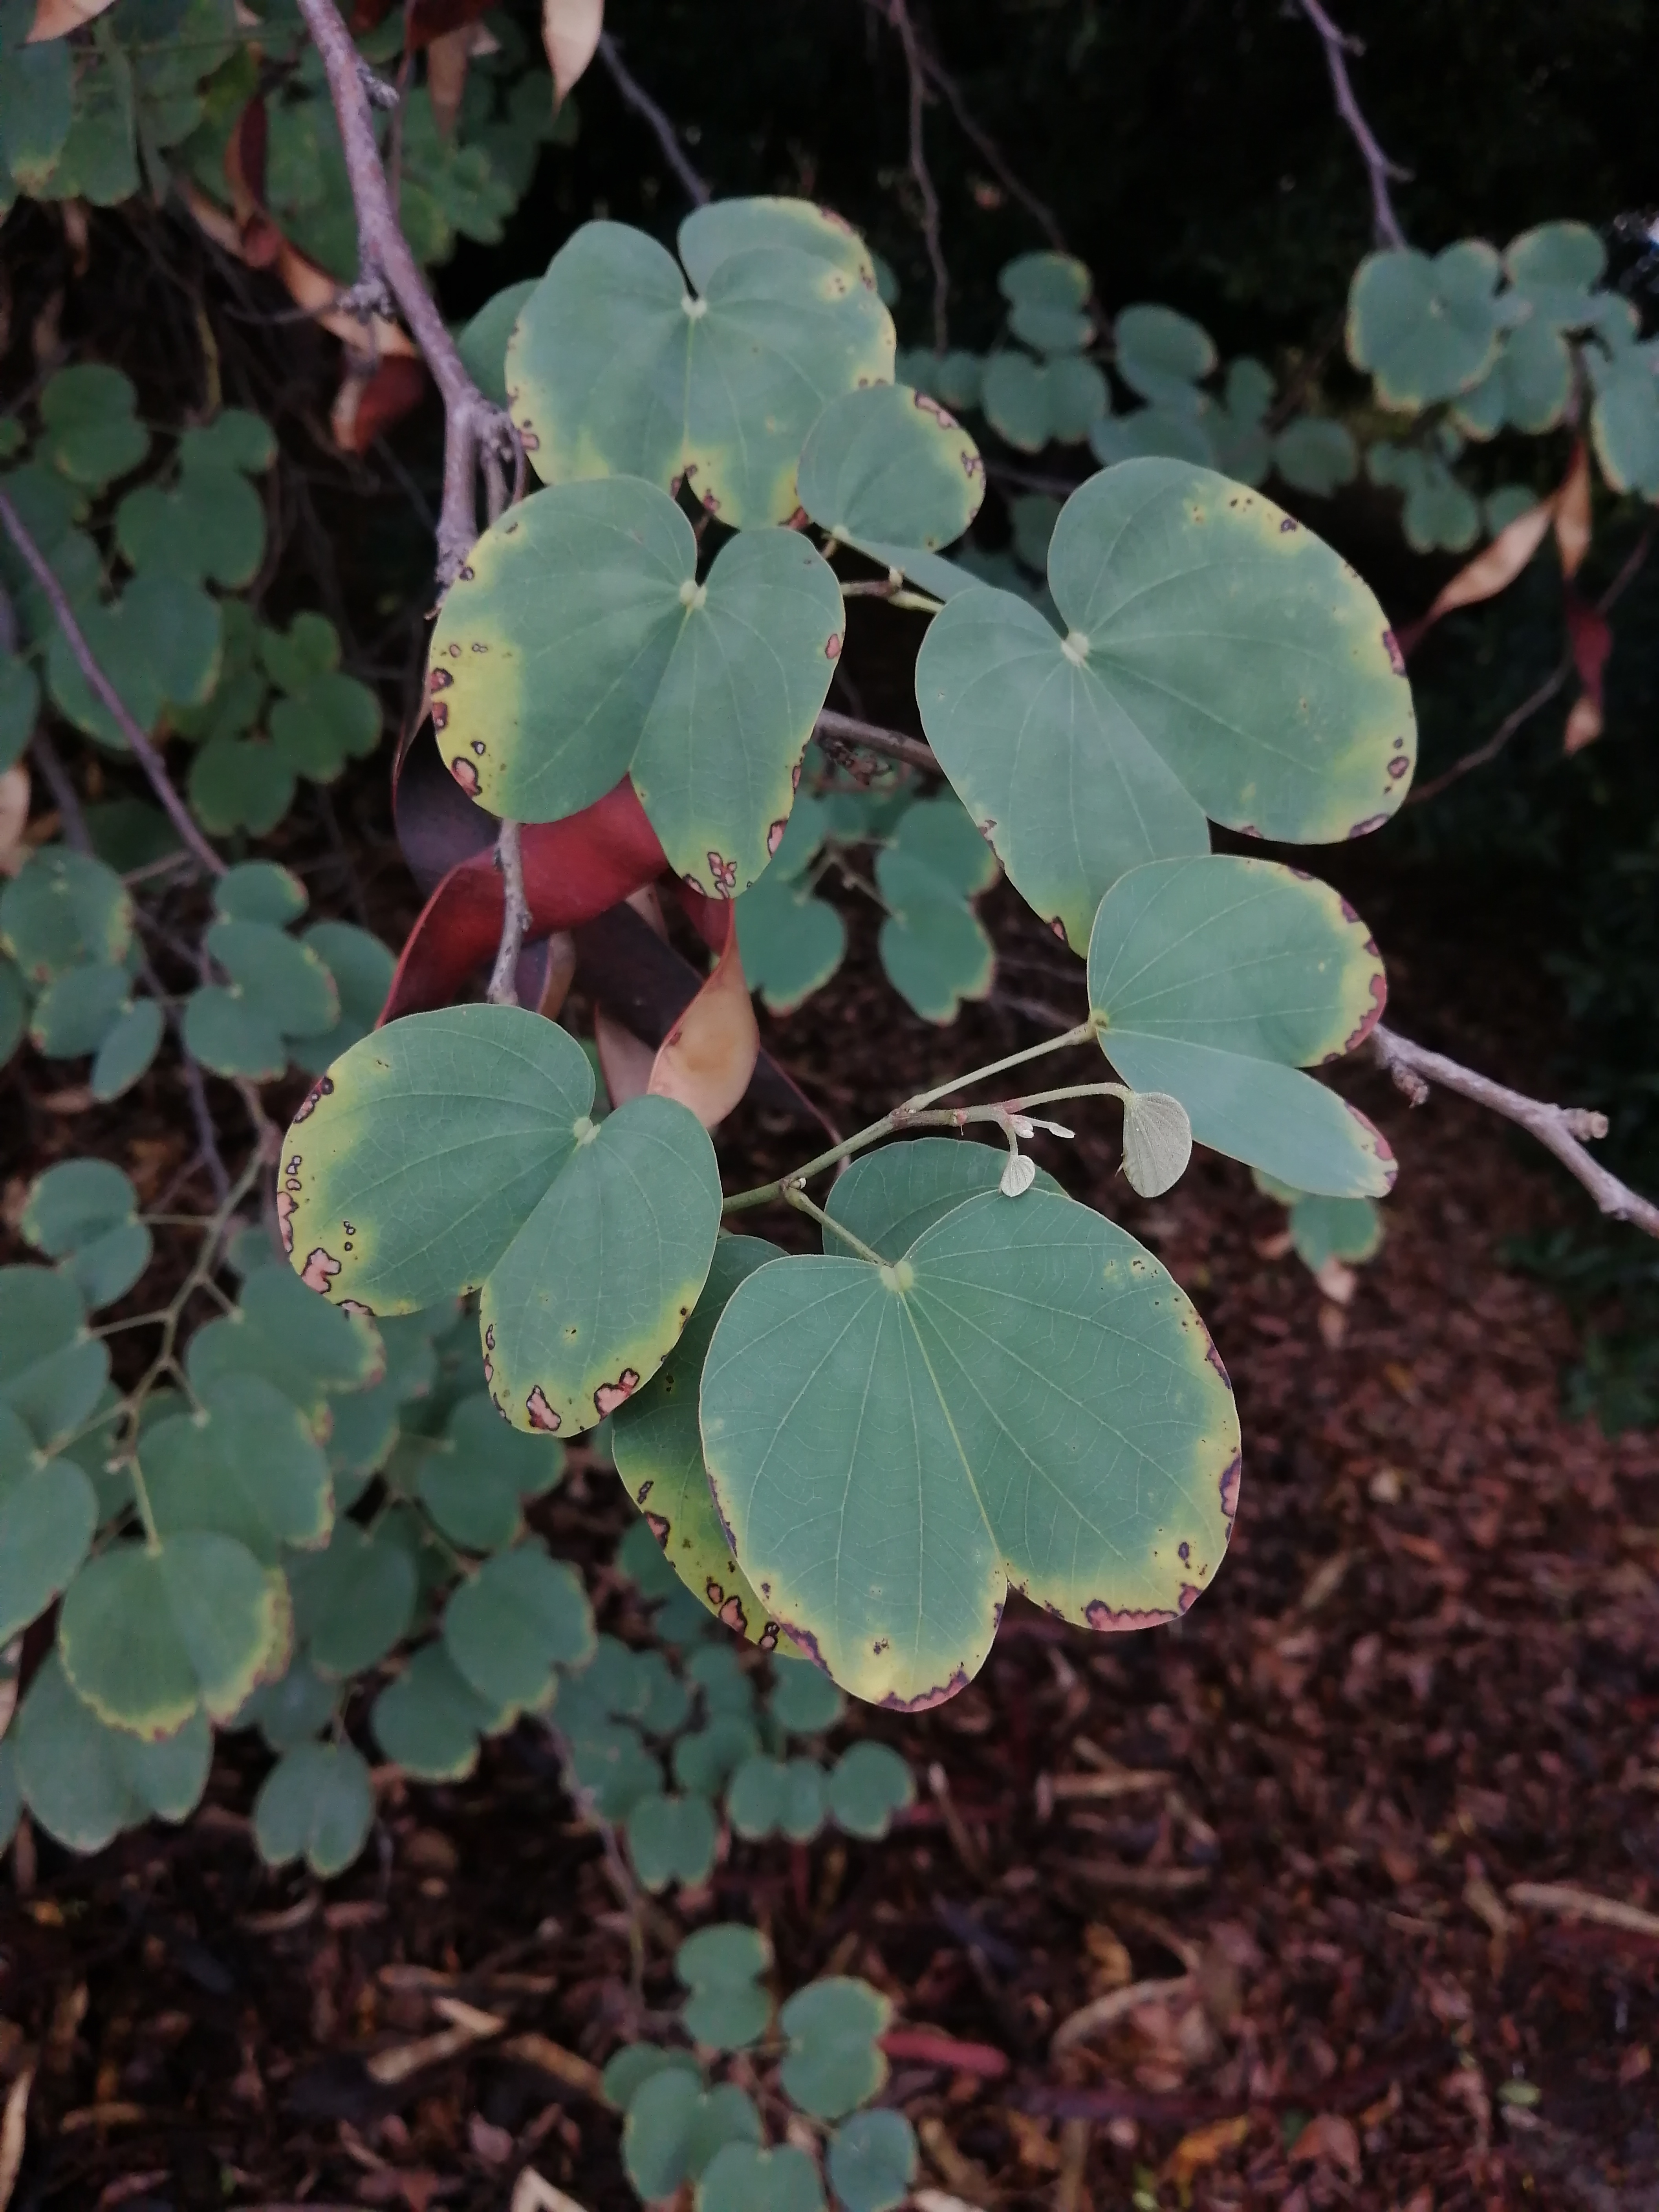nothealthy: (683, 1153, 1265, 1730), (917, 451, 1441, 998), (268, 1000, 748, 1437), (415, 488, 885, 902), (1080, 848, 1399, 1207), (51, 1514, 305, 1754)
